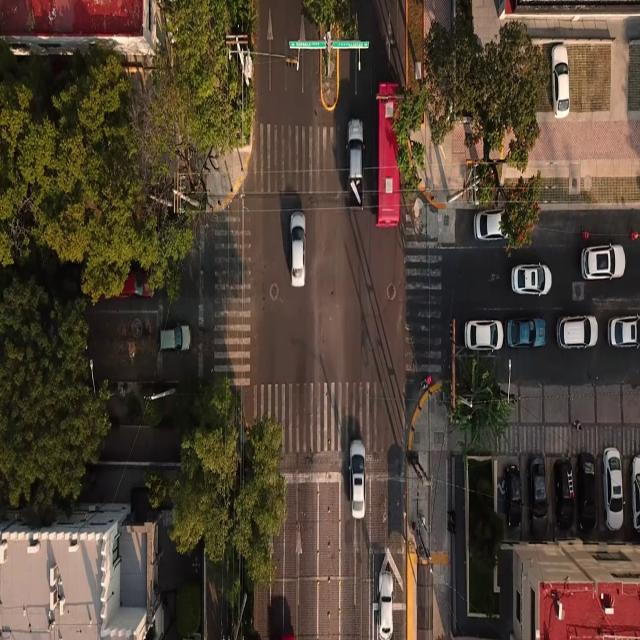car: (576, 452, 598, 532), (603, 448, 623, 530), (527, 455, 547, 537), (581, 244, 625, 280), (554, 459, 574, 529), (551, 45, 569, 118), (557, 316, 597, 348), (350, 440, 366, 519), (512, 264, 551, 295), (465, 320, 503, 351), (290, 212, 305, 287), (506, 319, 546, 347), (504, 464, 521, 527), (474, 210, 506, 241), (608, 316, 639, 347), (379, 571, 393, 639), (118, 272, 153, 298), (160, 325, 191, 351), (631, 456, 639, 531)
truck: (377, 83, 400, 227), (348, 119, 363, 208)
